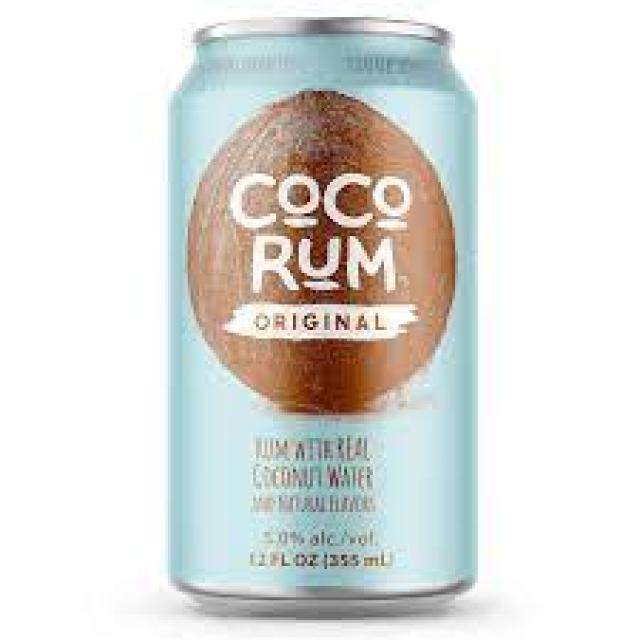Cans: (154, 8, 492, 623)
